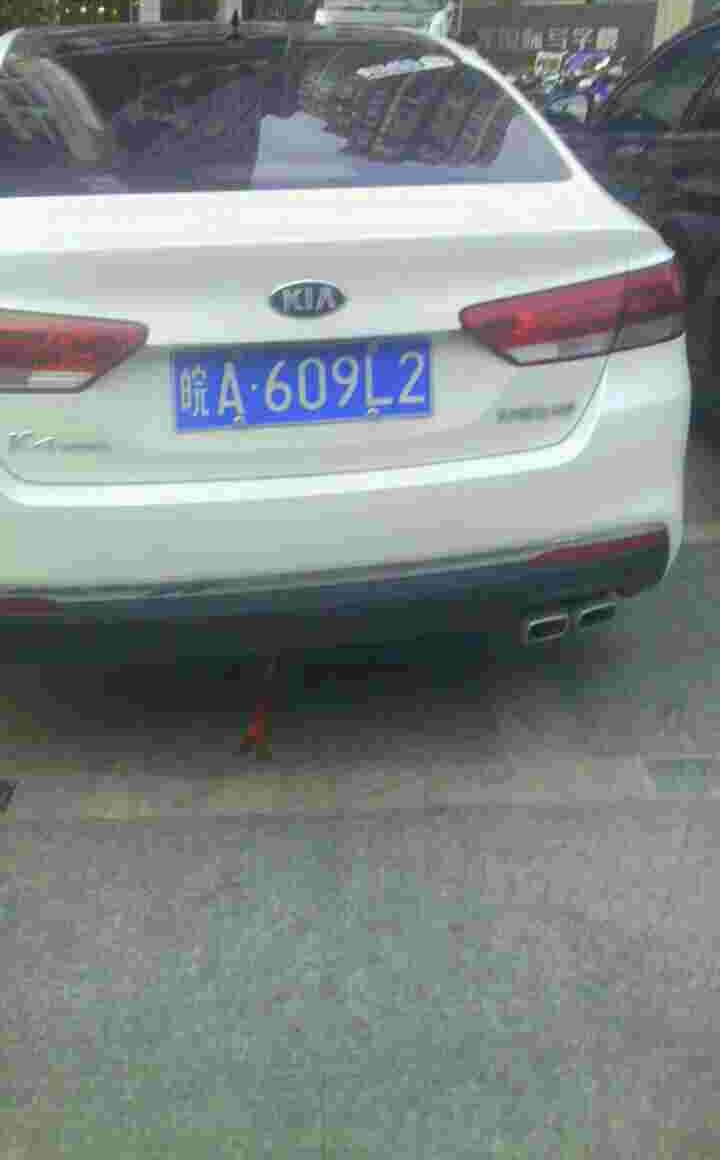license_plate: (180, 337, 443, 428)
